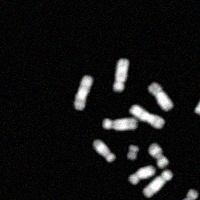chromosome: (143, 170, 172, 198), (129, 104, 164, 127), (148, 83, 173, 111), (73, 76, 93, 109), (92, 139, 115, 162), (114, 58, 130, 91), (129, 165, 155, 185), (102, 118, 138, 132), (149, 143, 169, 168), (194, 83, 200, 117), (181, 189, 198, 200), (127, 144, 139, 159)
